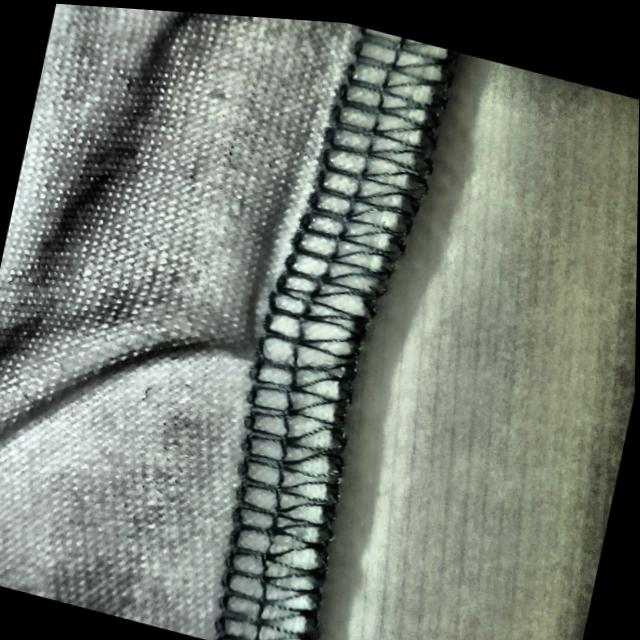seam: (49, 98, 494, 492)
